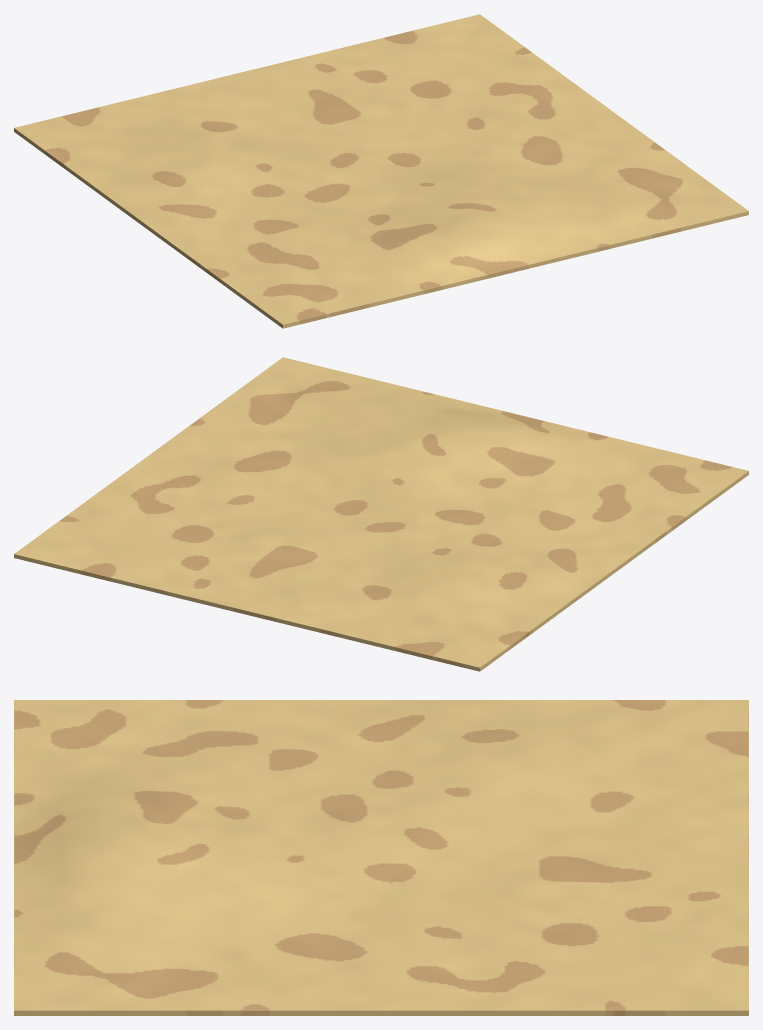
The model's file is Desert_Flat_12.obj.
The picture shows the model from 3 angles, top to bottom: view 1: azimuth 30°, elevation 25°; view 2: azimuth 150°, elevation 25°; view 3: azimuth 270°, elevation 25°; orthographic projection. The views are drawn at different scales.
Size of the model in its own units: 10 by 0.3461 by 10.
1 material, 1 textured.
